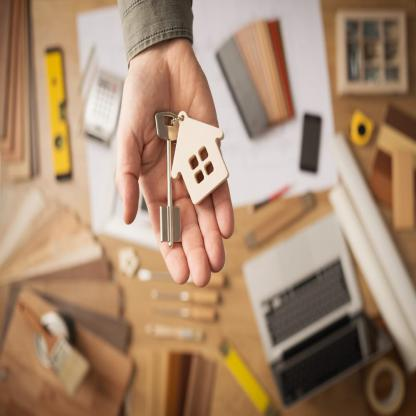keys: (148, 109, 189, 247)
